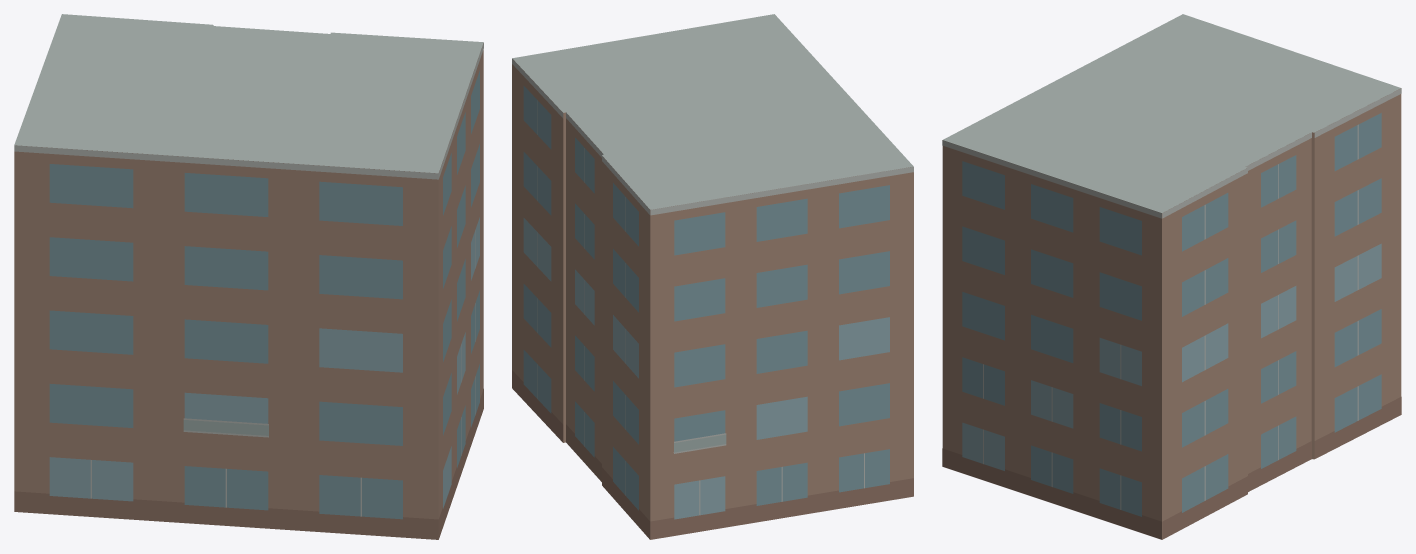
The model's file is survey-upis-32534669.glb.
3 views of the same model, side by side, from view 1: azimuth 30°, elevation 25°; view 2: azimuth 150°, elevation 25°; view 3: azimuth 270°, elevation 25° (orthographic). The views are drawn at different scales.
Parts seen in each view (by area): view 1: survey-upis-32534669.tmp; view 2: survey-upis-32534669.tmp; view 3: survey-upis-32534669.tmp.
Part boxes in pixels (<box>): survey-upis-32534669.tmp: <box>14,14,483,539</box>; survey-upis-32534669.tmp: <box>512,14,913,539</box>; survey-upis-32534669.tmp: <box>942,14,1401,539</box>.
Bounding box in the file's own units: 18.7 × 14.3 × 18.21.
